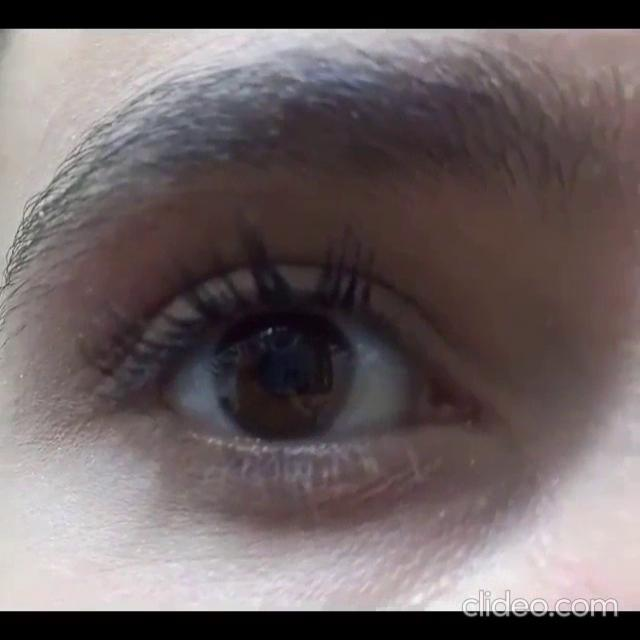iris: (212, 313, 352, 438)
pupille: (257, 346, 312, 394)
